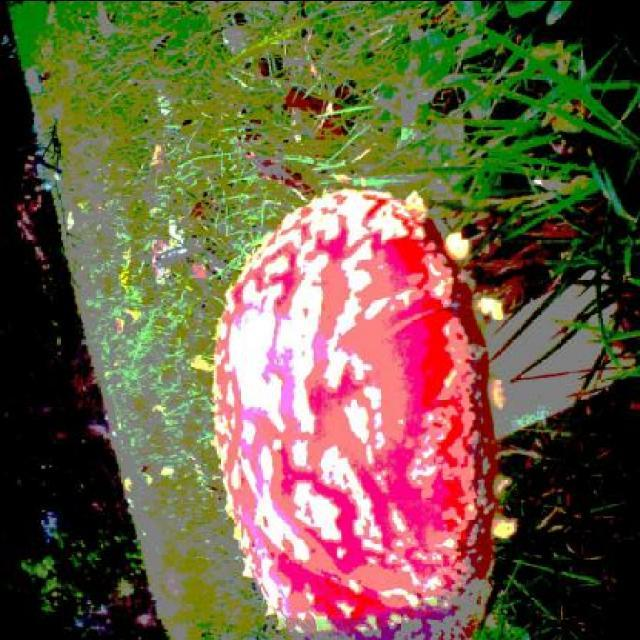Mushroom: (211, 194, 629, 640)
